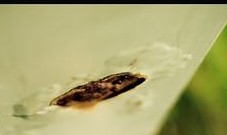Corrosion: (48, 71, 148, 112)
